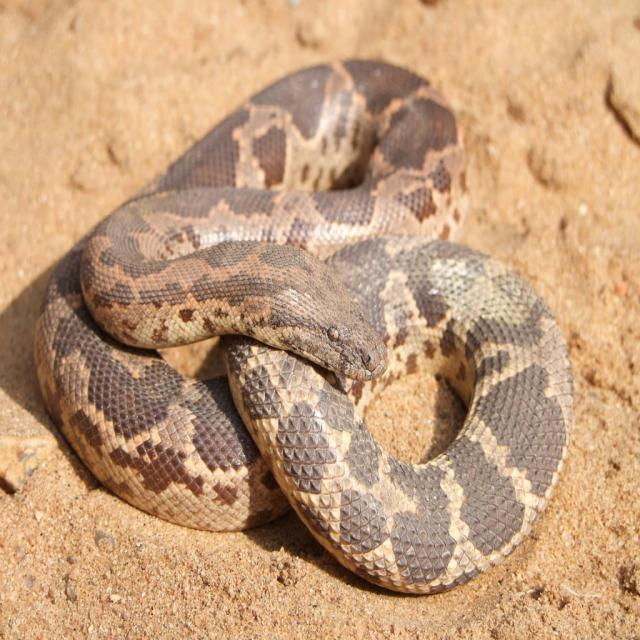Snake: (32, 55, 574, 595)
